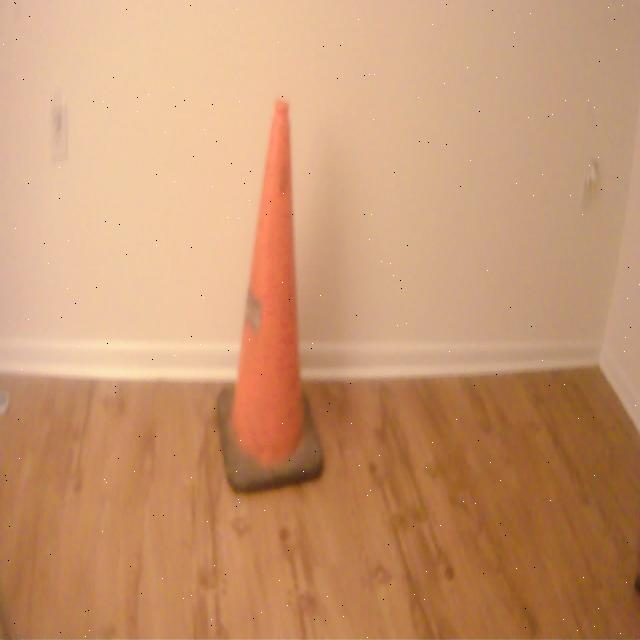traffic cone: (213, 91, 329, 503)
